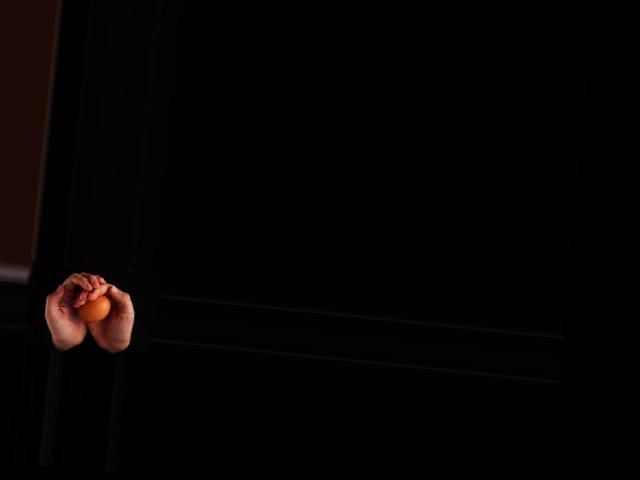egg: (74, 292, 111, 324)
